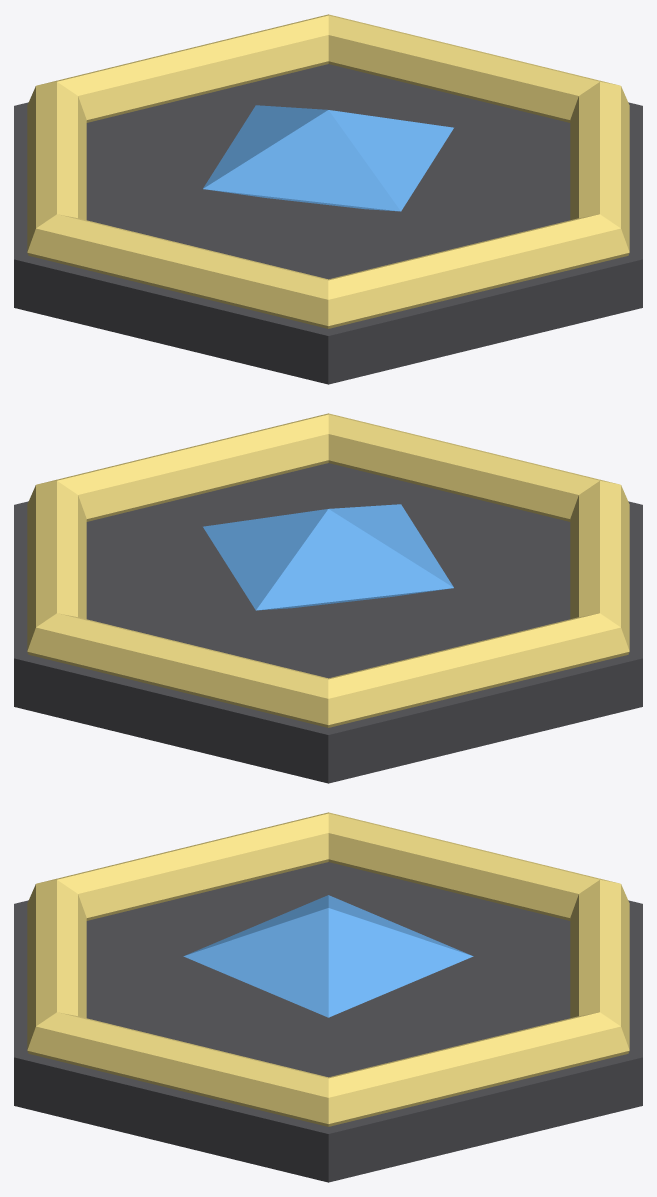
Rendered from badge.glb.
The picture shows the model from 3 angles, top to bottom: view 1: azimuth 30°, elevation 25°; view 2: azimuth 150°, elevation 25°; view 3: azimuth 270°, elevation 25°; orthographic projection.
Bounding box in the file's own units: 1.9 × 0.35 × 1.65.
